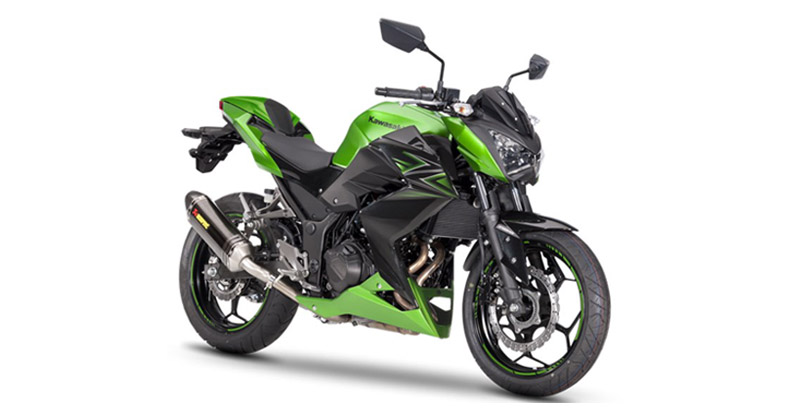motorcycle: (179, 70, 611, 398)
